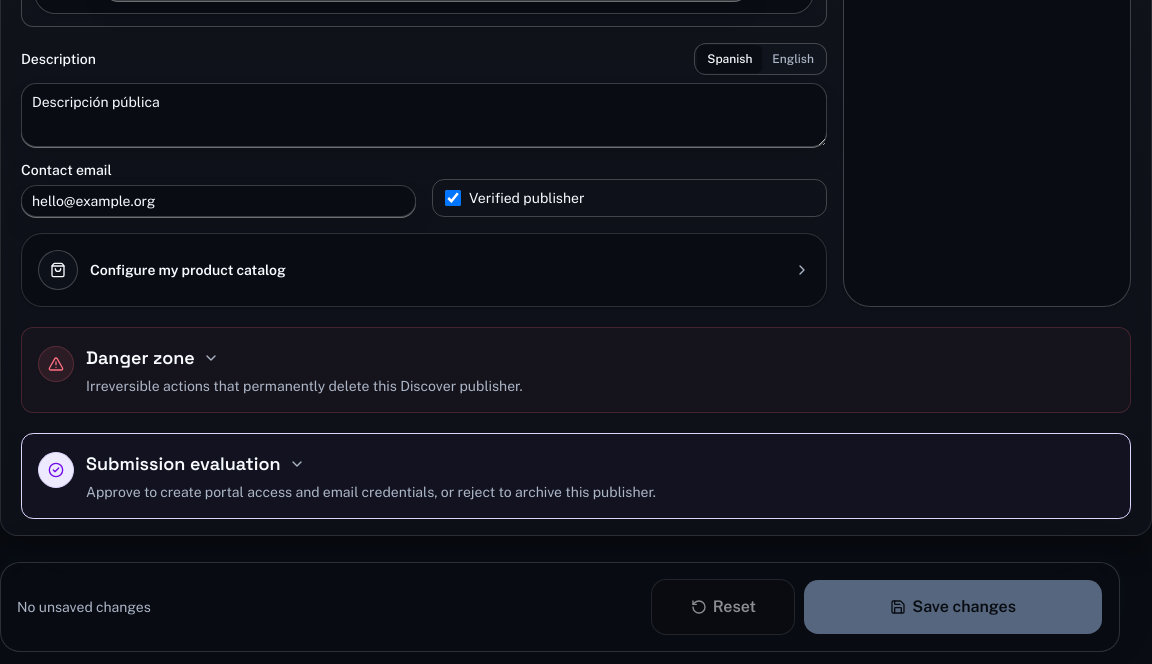
Scenario: DiscoverOrganizationWorkbench accent color › renders organization deletion as a collapsed god mode danger zone
(page scrolled)
Expected: the text "Organization deletion" is not shown
Expected: the button "Delete organization" is not shown
Click the button "Danger zone": x=56, y=364 [38,344,1114,396]
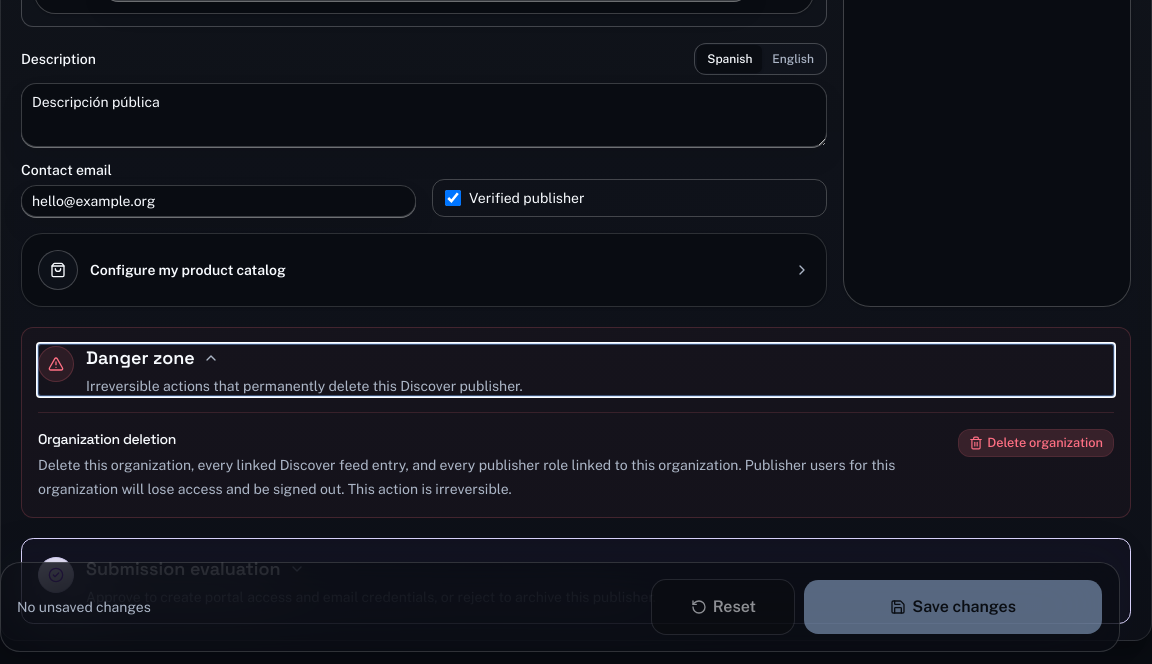
Expected: the button "Danger zone" is expanded, [38,344,1114,396]
Expected: the heading "Organization deletion" is shown, [38,430,176,448]
Expected: the text "Delete this organization, every linked Discover feed entry, and every publisher role linked to this organization. Publis" is shown, [38,457,895,497]
